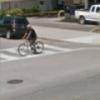bicycles: (16, 36, 46, 57)
cars: (0, 15, 31, 40), (73, 4, 100, 24)
